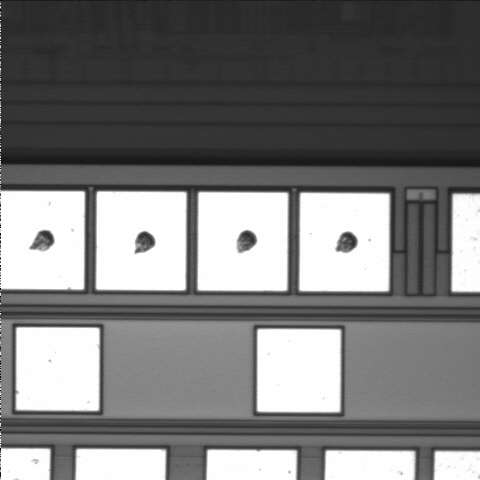pad: (198, 192, 288, 291), (96, 192, 186, 290), (299, 193, 389, 291), (16, 327, 99, 411), (257, 329, 341, 412)
